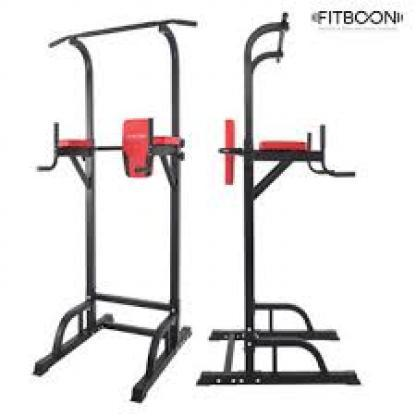chinning dipping: (34, 17, 196, 404), (200, 27, 362, 385)
